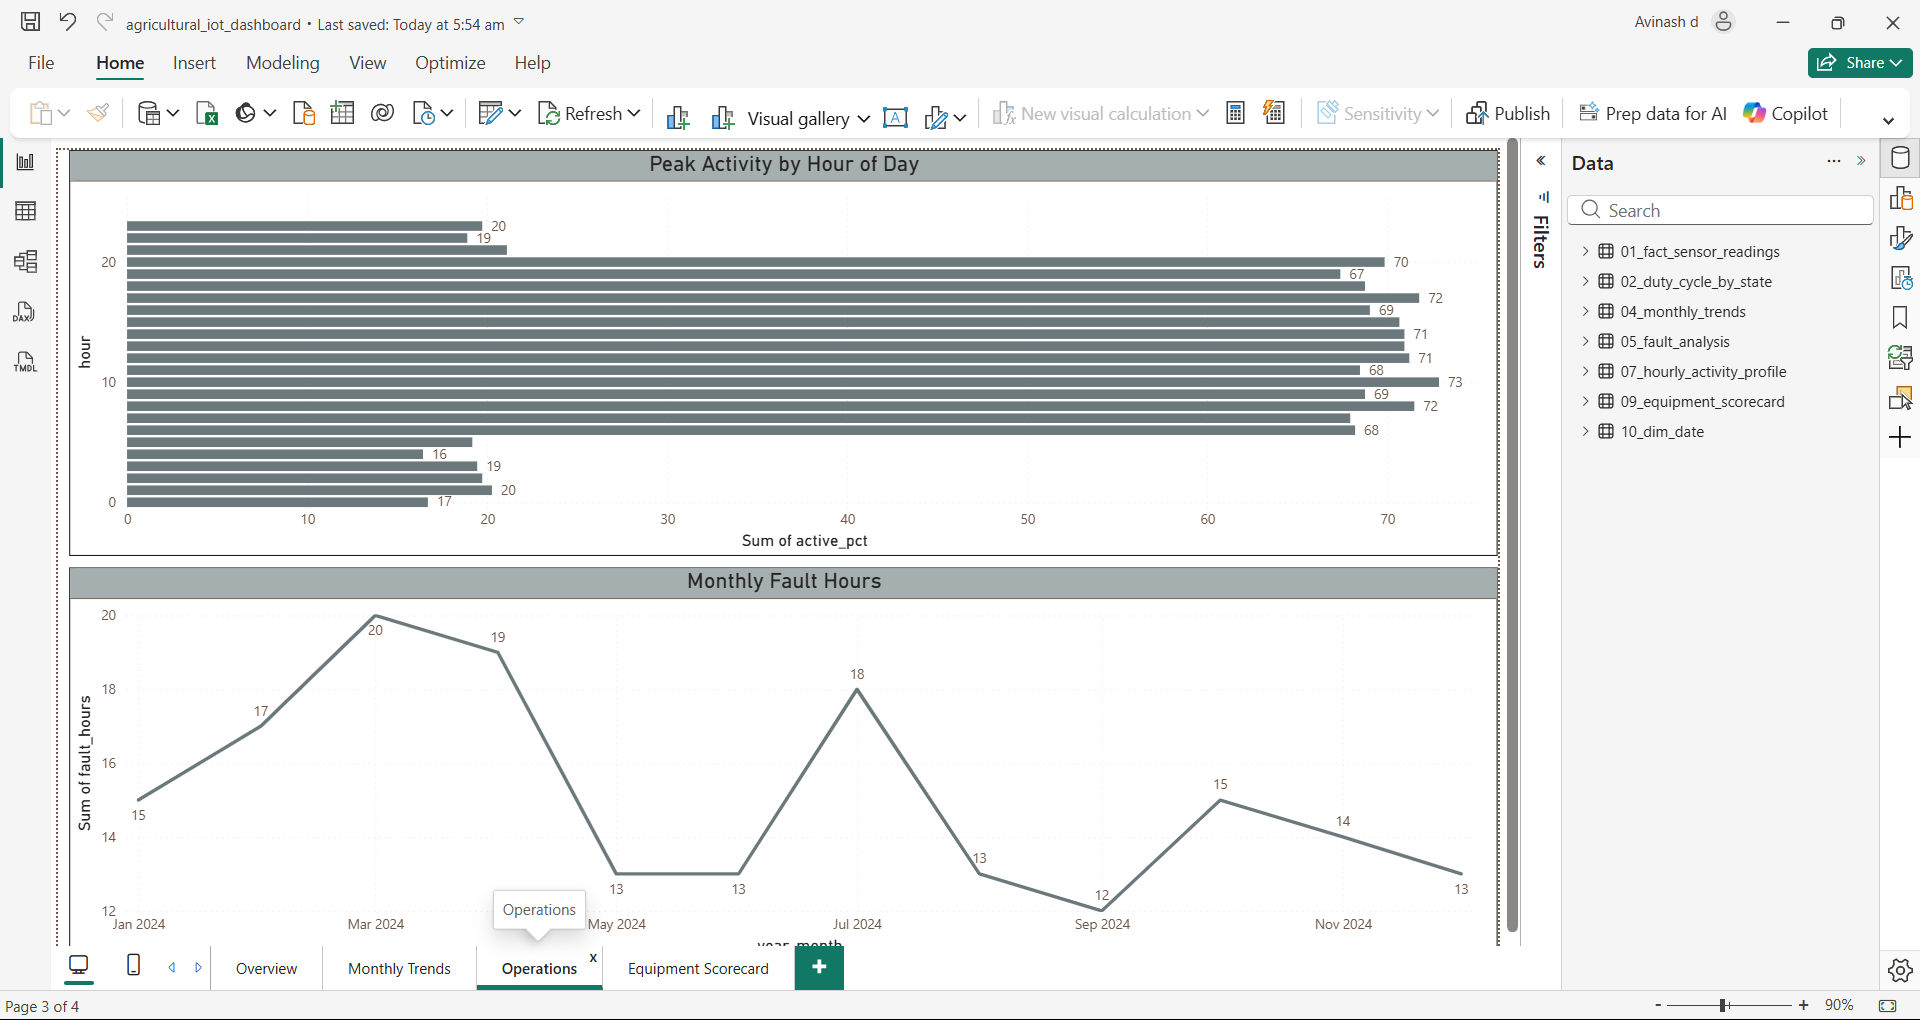

The page's visual inventory and layout, read from the dashboard file:
{"tool":"powerbi","page":{"name":"Operations","canvas":[1280,720],"ordinal":2},"visuals":[{"type":"clusteredBarChart","title":"Peak Activity by Hour of Day","fields":{"Category":["07_hourly_activity_profile.hour"],"Y":["Sum(07_hourly_activity_profile.active_pct)"]},"box":[10.3,0,1269.7,360.6],"z":0},{"type":"lineChart","title":"Monthly Fault Hours","fields":{"Category":["04_monthly_trends.year_month"],"Y":["Sum(04_monthly_trends.fault_hours)"]},"box":[10.3,370.9,1269.7,349],"z":1}]}

Visuals, with their boxes on the page's 1280x720 design canvas (x1, y1, x2, y2). These are canvas units, not pixel positions in the 1920x1020 screenshot, which may show the page scaled, cropped or inside an application window:
"Peak Activity by Hour of Day" clusteredBarChart: [10,0,1280,361]
"Monthly Fault Hours" lineChart: [10,371,1280,720]
